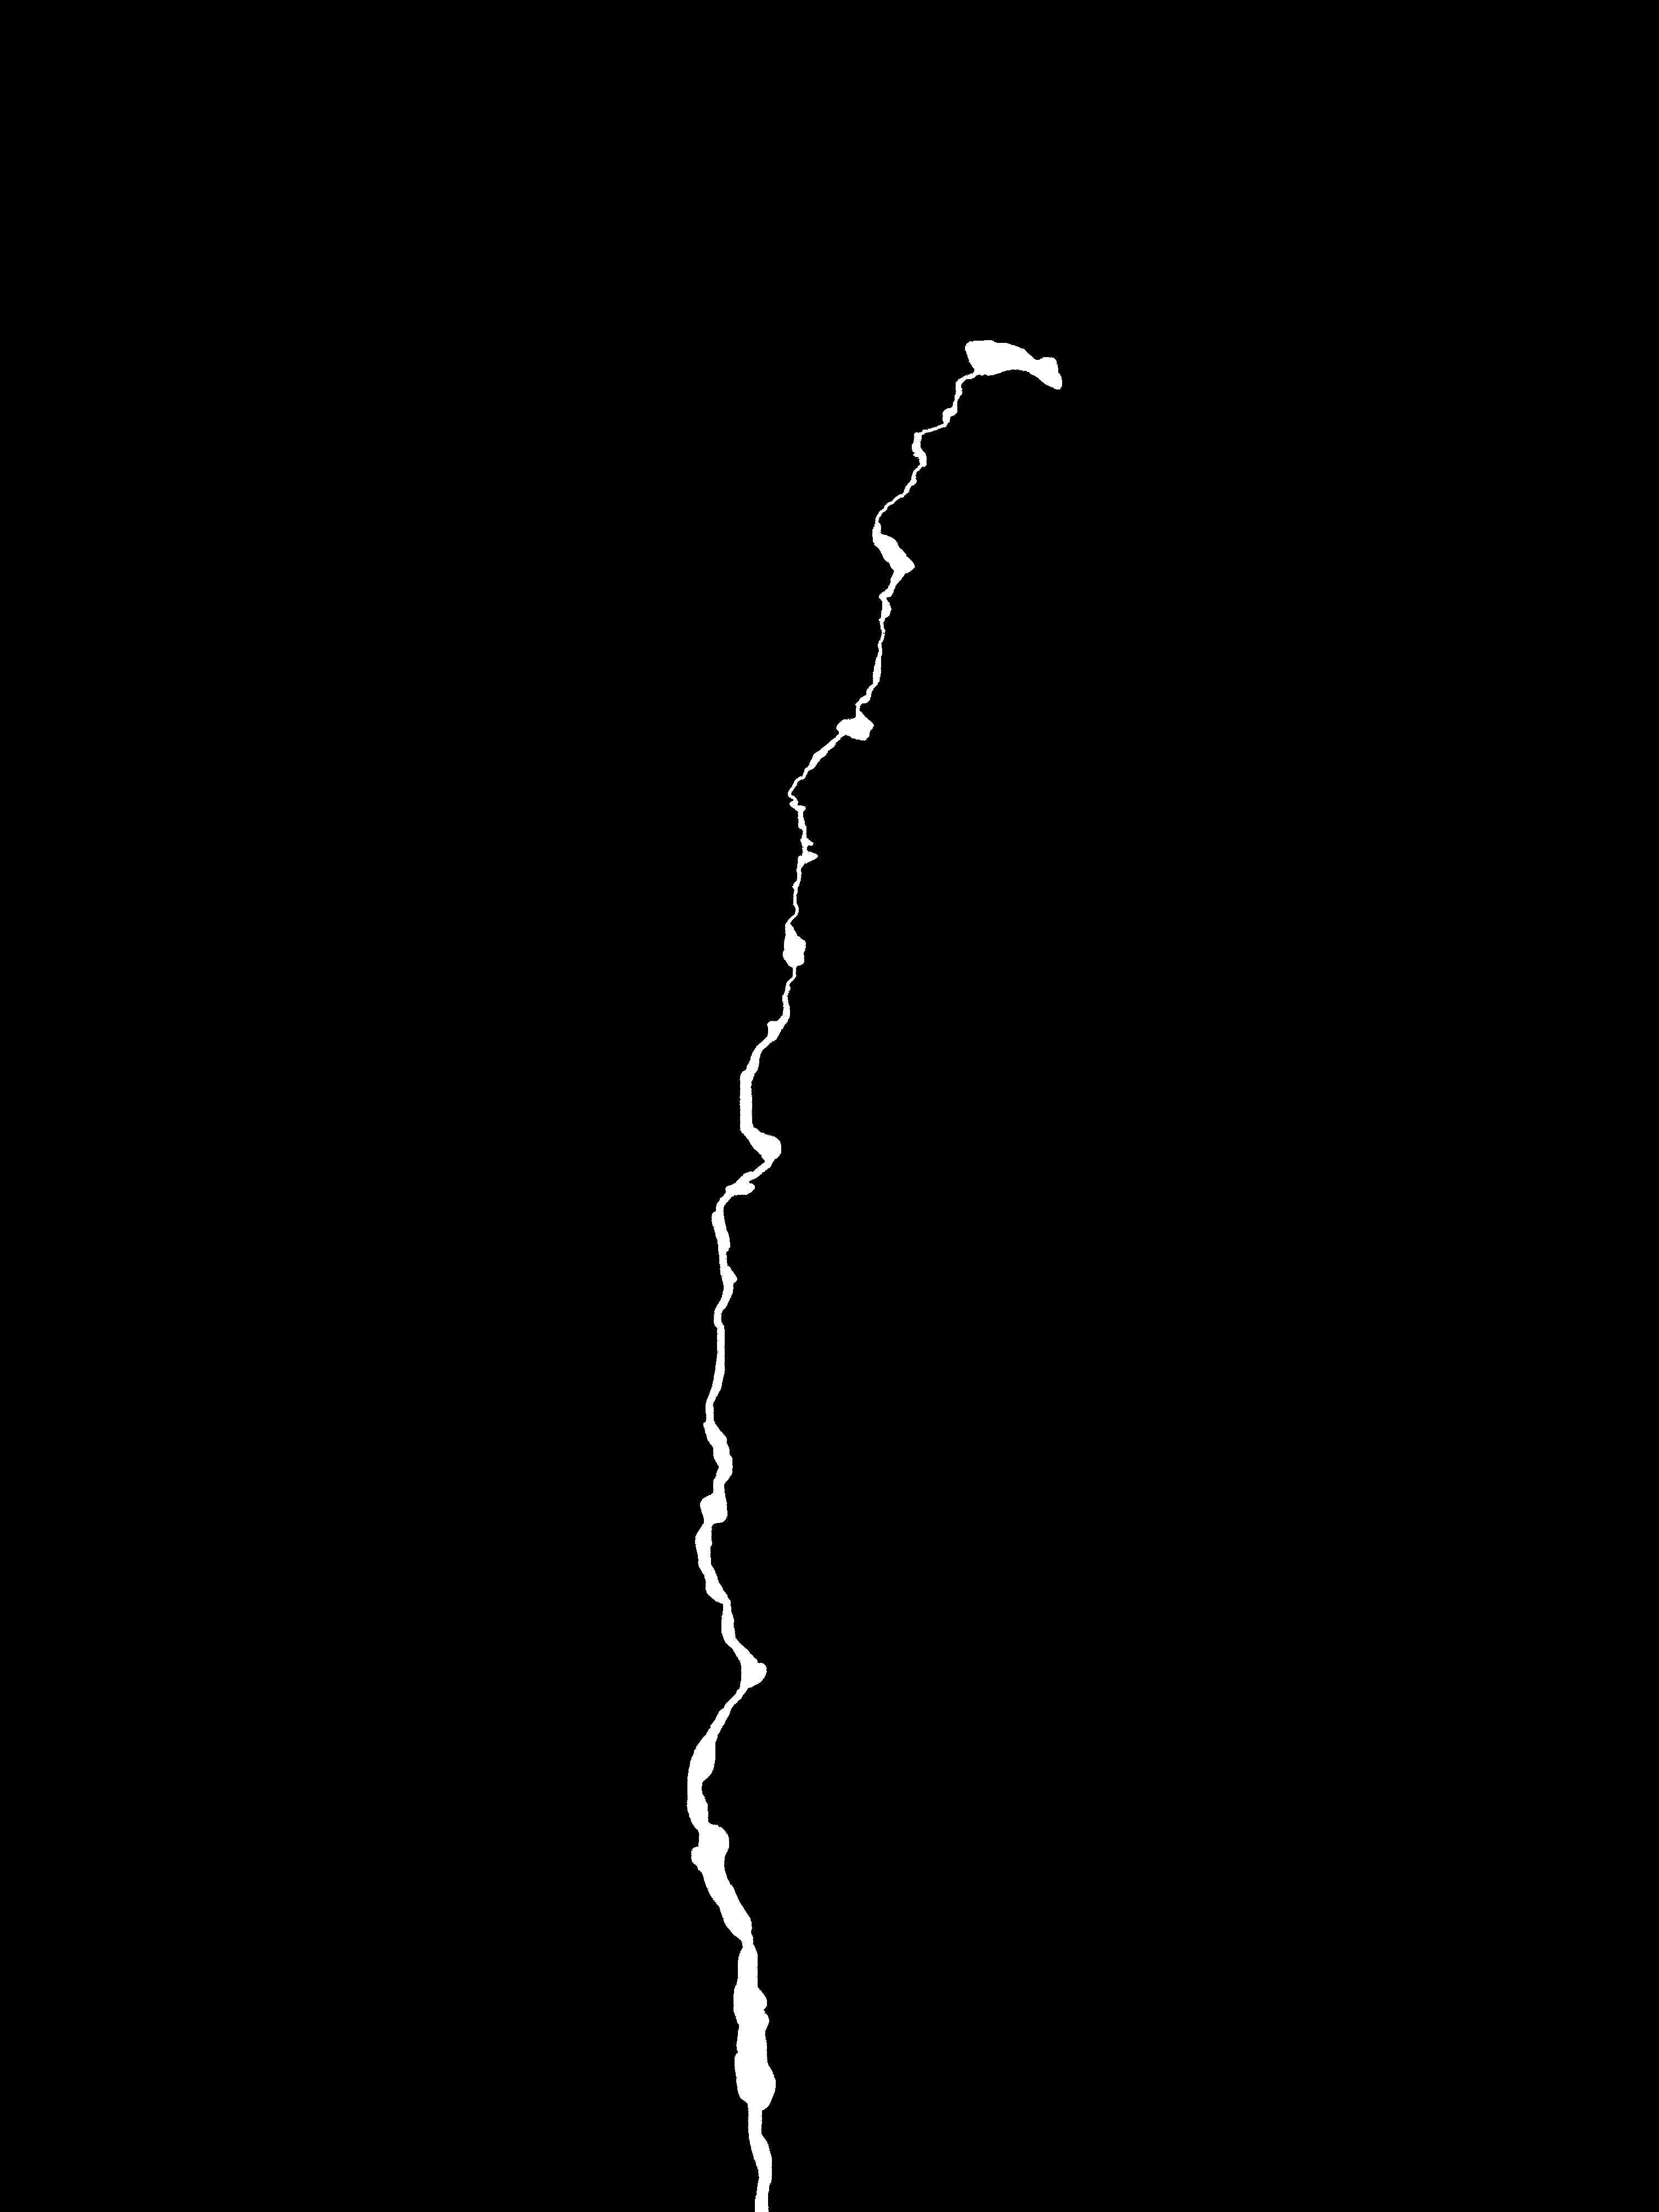Crack: (666, 284, 1087, 2212)
